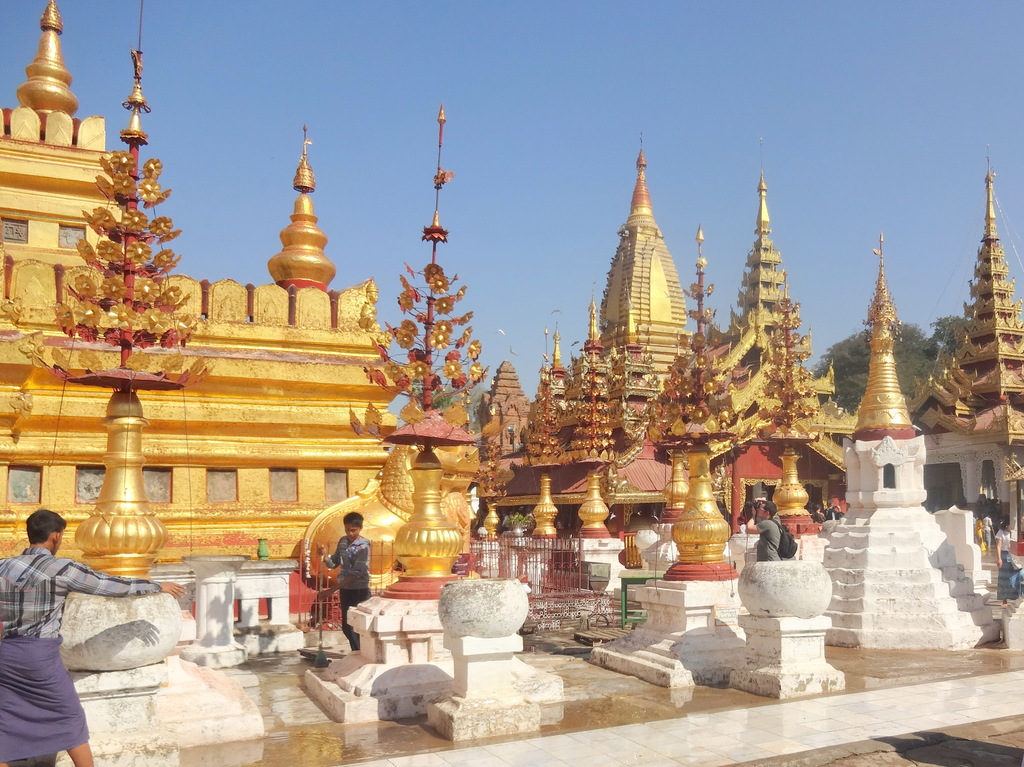Person: (0, 498, 1024, 766), (317, 511, 371, 650)
